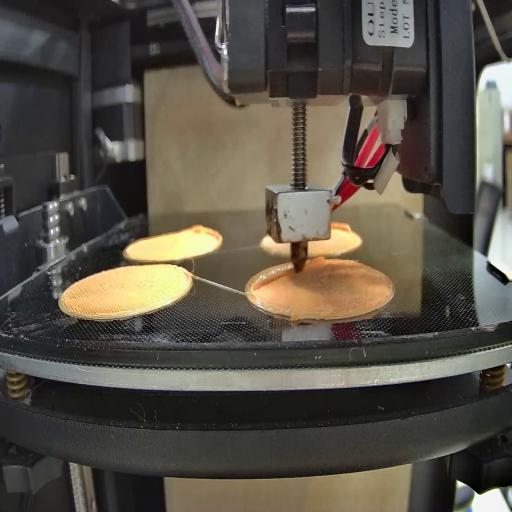over_extrusion: (251, 266, 293, 300), (193, 223, 224, 254), (331, 219, 351, 235), (306, 255, 325, 269)
